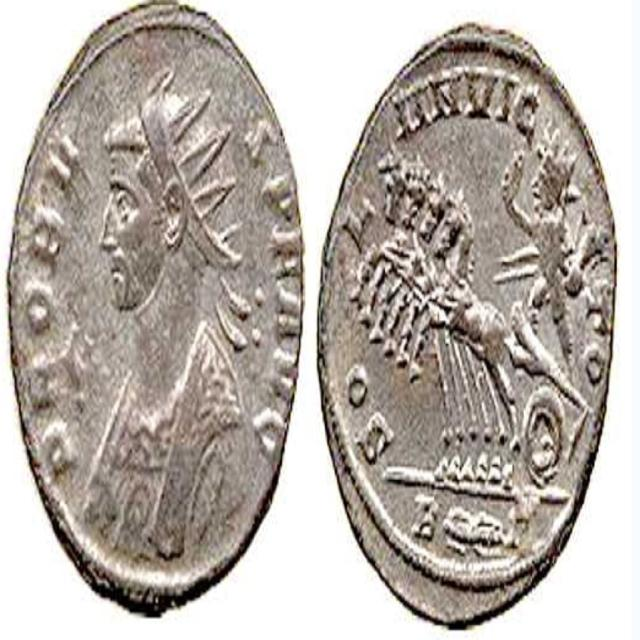Coin: (5, 0, 304, 615), (318, 22, 617, 630)
